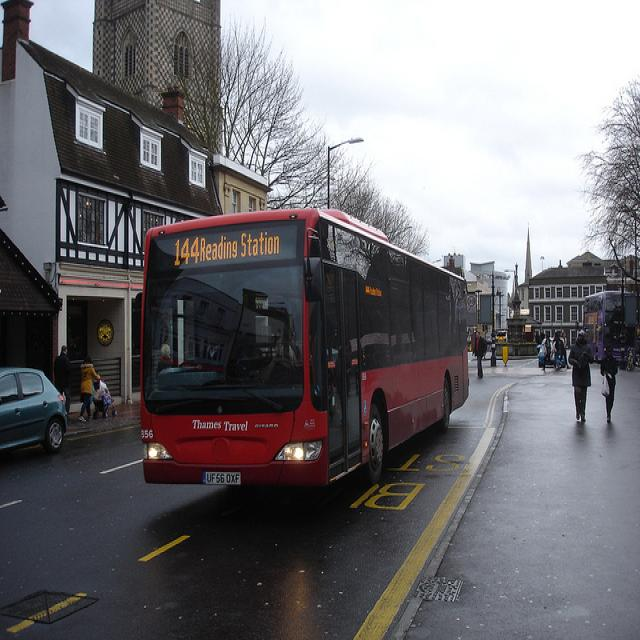Vehicle: (147, 208, 470, 488), (0, 367, 70, 455)
